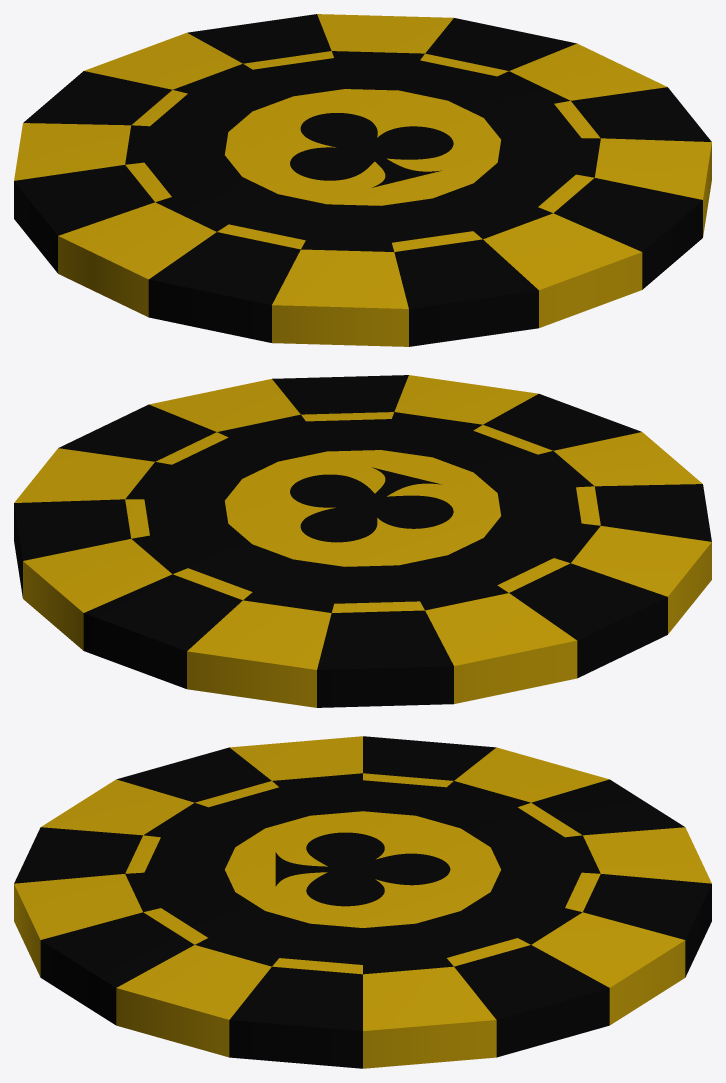
Rendered from CasinoChip.fbx.
The picture shows the model from 3 angles, top to bottom: view 1: azimuth 30°, elevation 25°; view 2: azimuth 150°, elevation 25°; view 3: azimuth 270°, elevation 25°; orthographic projection.
Visible parts, largest first — view 1: Cylinder, Empty.001; view 2: Cylinder, Empty.001; view 3: Cylinder, Empty.001.
Part boxes in pixels (x1=…): Cylinder: x1=14, y1=14, x2=711, y2=346; Empty.001: x1=290, y1=113, x2=453, y2=187; Cylinder: x1=14, y1=375, x2=711, y2=707; Empty.001: x1=290, y1=467, x2=453, y2=542; Cylinder: x1=14, y1=736, x2=711, y2=1068; Empty.001: x1=275, y1=832, x2=450, y2=906.
Size of the model in its own units: 0.4 by 0.0402 by 0.4.
